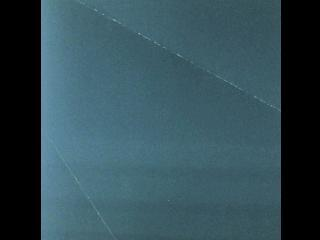crack: (71, 0, 281, 110), (42, 128, 118, 240)
